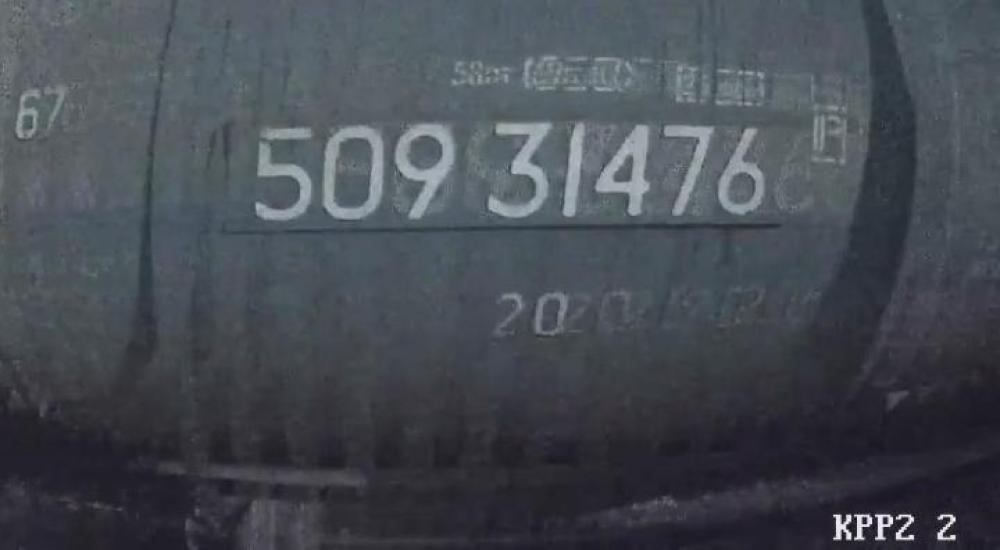Wagon-number: (246, 118, 774, 228)
